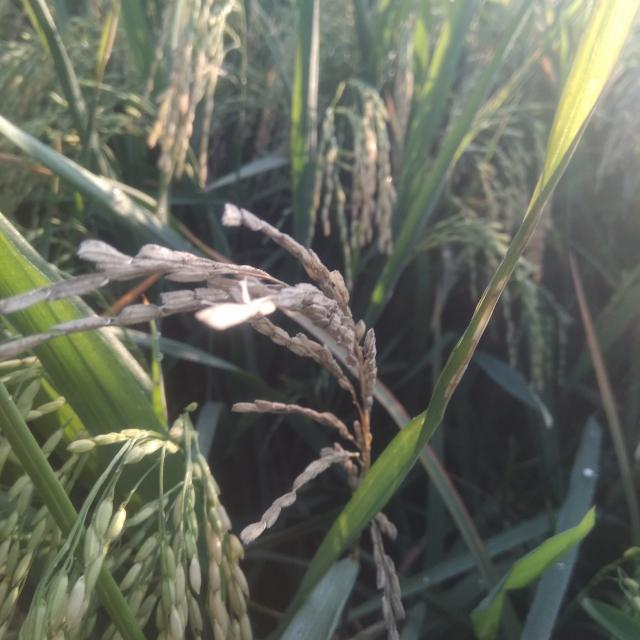Bacterial leaf blight: (419, 264, 513, 425)
